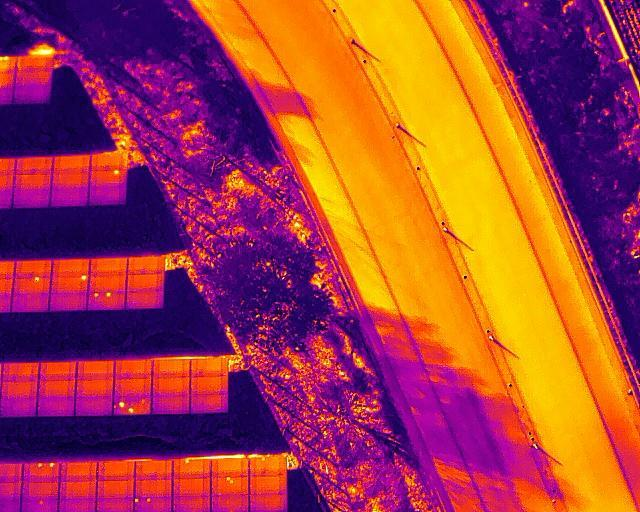Cell: (51, 275, 91, 293), (173, 460, 212, 478), (250, 457, 287, 475), (12, 277, 51, 294), (90, 170, 126, 185), (21, 500, 59, 512)
Cell-Multi: (87, 291, 127, 310), (22, 463, 60, 483), (211, 476, 248, 496), (113, 398, 152, 415), (134, 497, 174, 512)
No-Anomaly: (60, 462, 98, 482), (0, 362, 39, 381), (113, 378, 152, 397), (75, 379, 114, 398), (190, 394, 228, 413), (152, 395, 190, 414), (98, 480, 136, 499), (114, 359, 152, 378), (152, 377, 190, 396), (76, 360, 114, 379), (38, 361, 76, 380), (136, 460, 174, 479), (90, 185, 126, 205), (10, 294, 50, 312), (98, 461, 135, 480), (190, 376, 229, 394), (50, 293, 89, 311), (152, 359, 191, 377), (249, 476, 288, 494), (249, 494, 287, 512), (90, 257, 128, 275), (37, 381, 75, 399), (0, 381, 38, 399), (126, 291, 164, 309), (59, 481, 97, 499), (173, 478, 211, 496), (191, 359, 228, 377), (128, 257, 165, 275), (75, 398, 112, 416), (0, 398, 37, 416), (51, 189, 90, 206), (37, 398, 76, 415), (211, 495, 249, 512), (135, 479, 173, 496), (14, 260, 52, 277), (90, 274, 128, 291), (15, 174, 53, 191), (52, 172, 90, 189), (212, 460, 250, 477), (22, 483, 59, 500), (127, 274, 164, 291), (16, 156, 53, 173), (13, 86, 50, 103), (53, 259, 92, 275), (53, 156, 92, 172), (15, 70, 51, 87), (173, 496, 211, 512), (13, 191, 51, 207), (91, 155, 127, 170), (96, 498, 134, 512), (58, 499, 96, 512), (18, 56, 54, 69)
